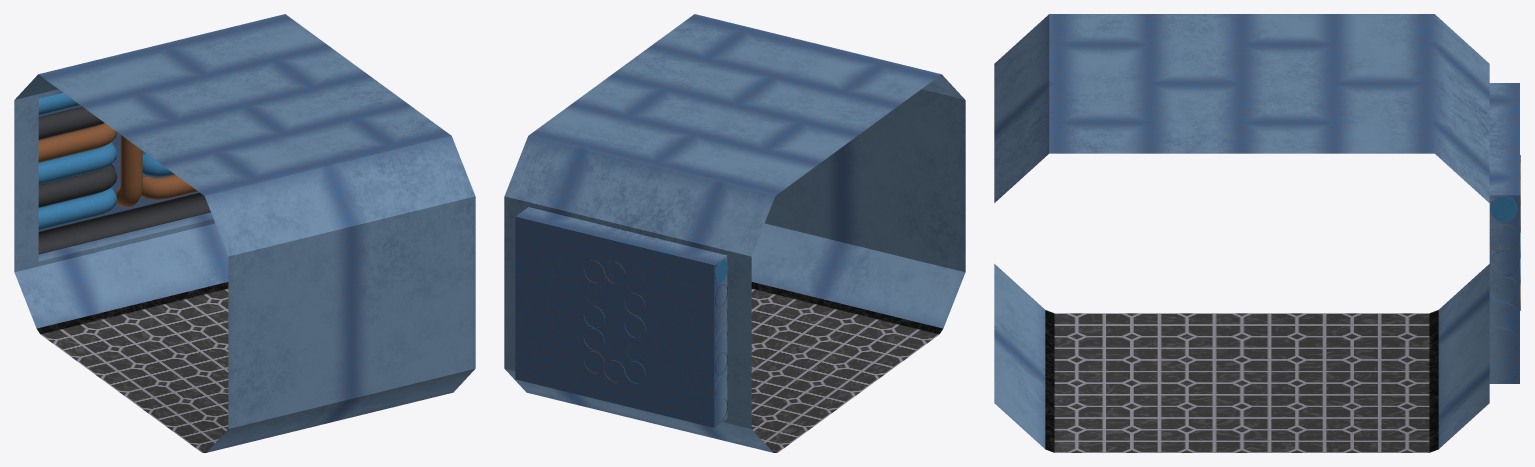
Rendered from Hall - Pipes - Texture.gltf.
3 views of the same model, side by side, from view 1: azimuth 30°, elevation 25°; view 2: azimuth 150°, elevation 25°; view 3: azimuth 270°, elevation 25° (orthographic). The views are drawn at different scales.
Parts seen in each view (by area): view 1: Pipes; view 2: Pipes; view 3: Pipes.
Part boxes in pixels (x1,y1,x2,y2): Pipes: (14,14,475,452); Pipes: (504,14,965,452); Pipes: (994,14,1520,452).
Bounding box in the file's own units: 2 × 2 × 3.19.
Materials: 1 (1 with a texture image).
